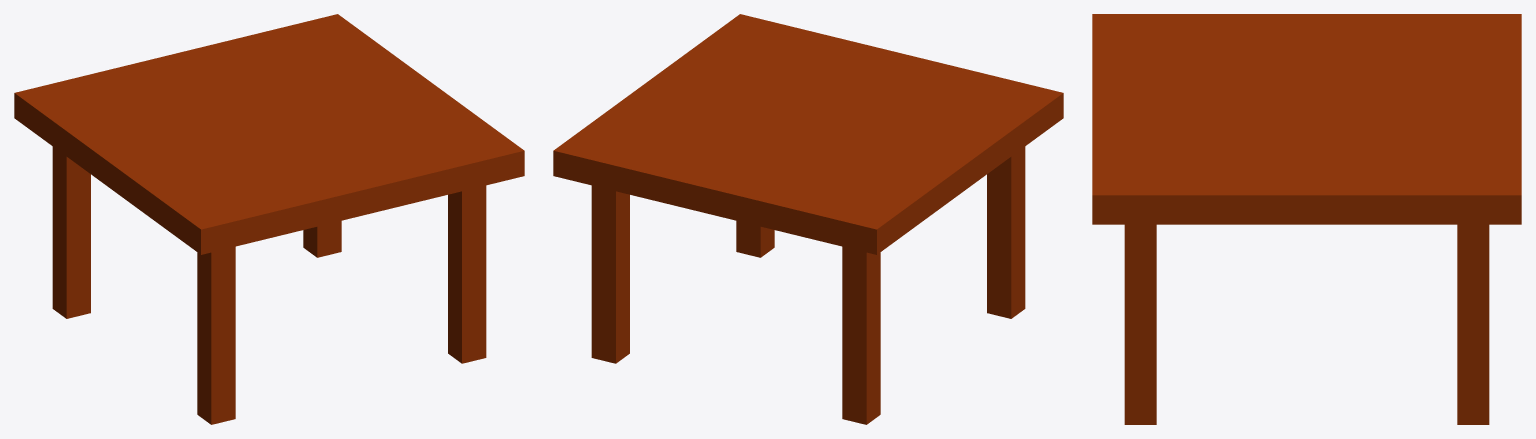
Rendered from table.glb.
3 views of the same model, side by side, from view 1: azimuth 30°, elevation 25°; view 2: azimuth 150°, elevation 25°; view 3: azimuth 270°, elevation 25° (orthographic). The views are drawn at different scales.
Parts seen in each view (by area): view 1: Untitled; view 2: Untitled; view 3: Untitled.
Part boxes in pixels (x1,y1,x2,y2): Untitled: (14, 14, 524, 424); Untitled: (553, 14, 1063, 424); Untitled: (1092, 14, 1521, 424).
Size of the model in its own units: 2 by 1.25 by 2.
Materials: 1 (1 with a texture image).
